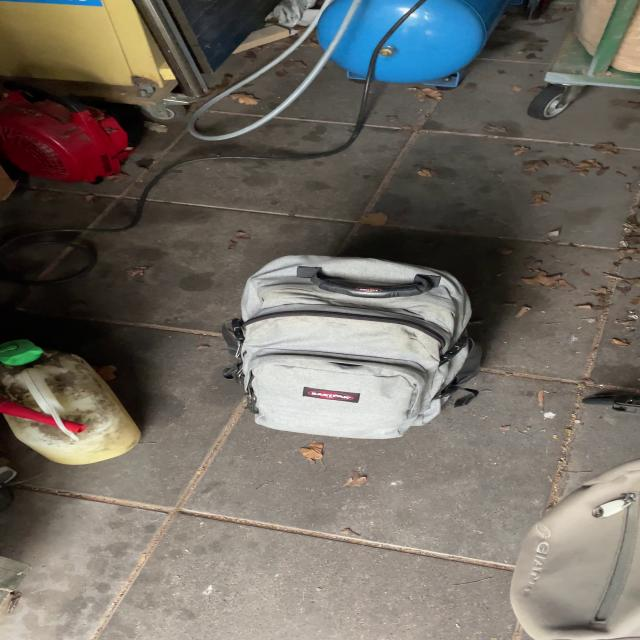backpack: (213, 247, 494, 445)
